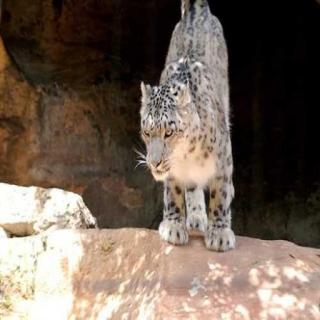Leopard: (118, 0, 270, 273)
